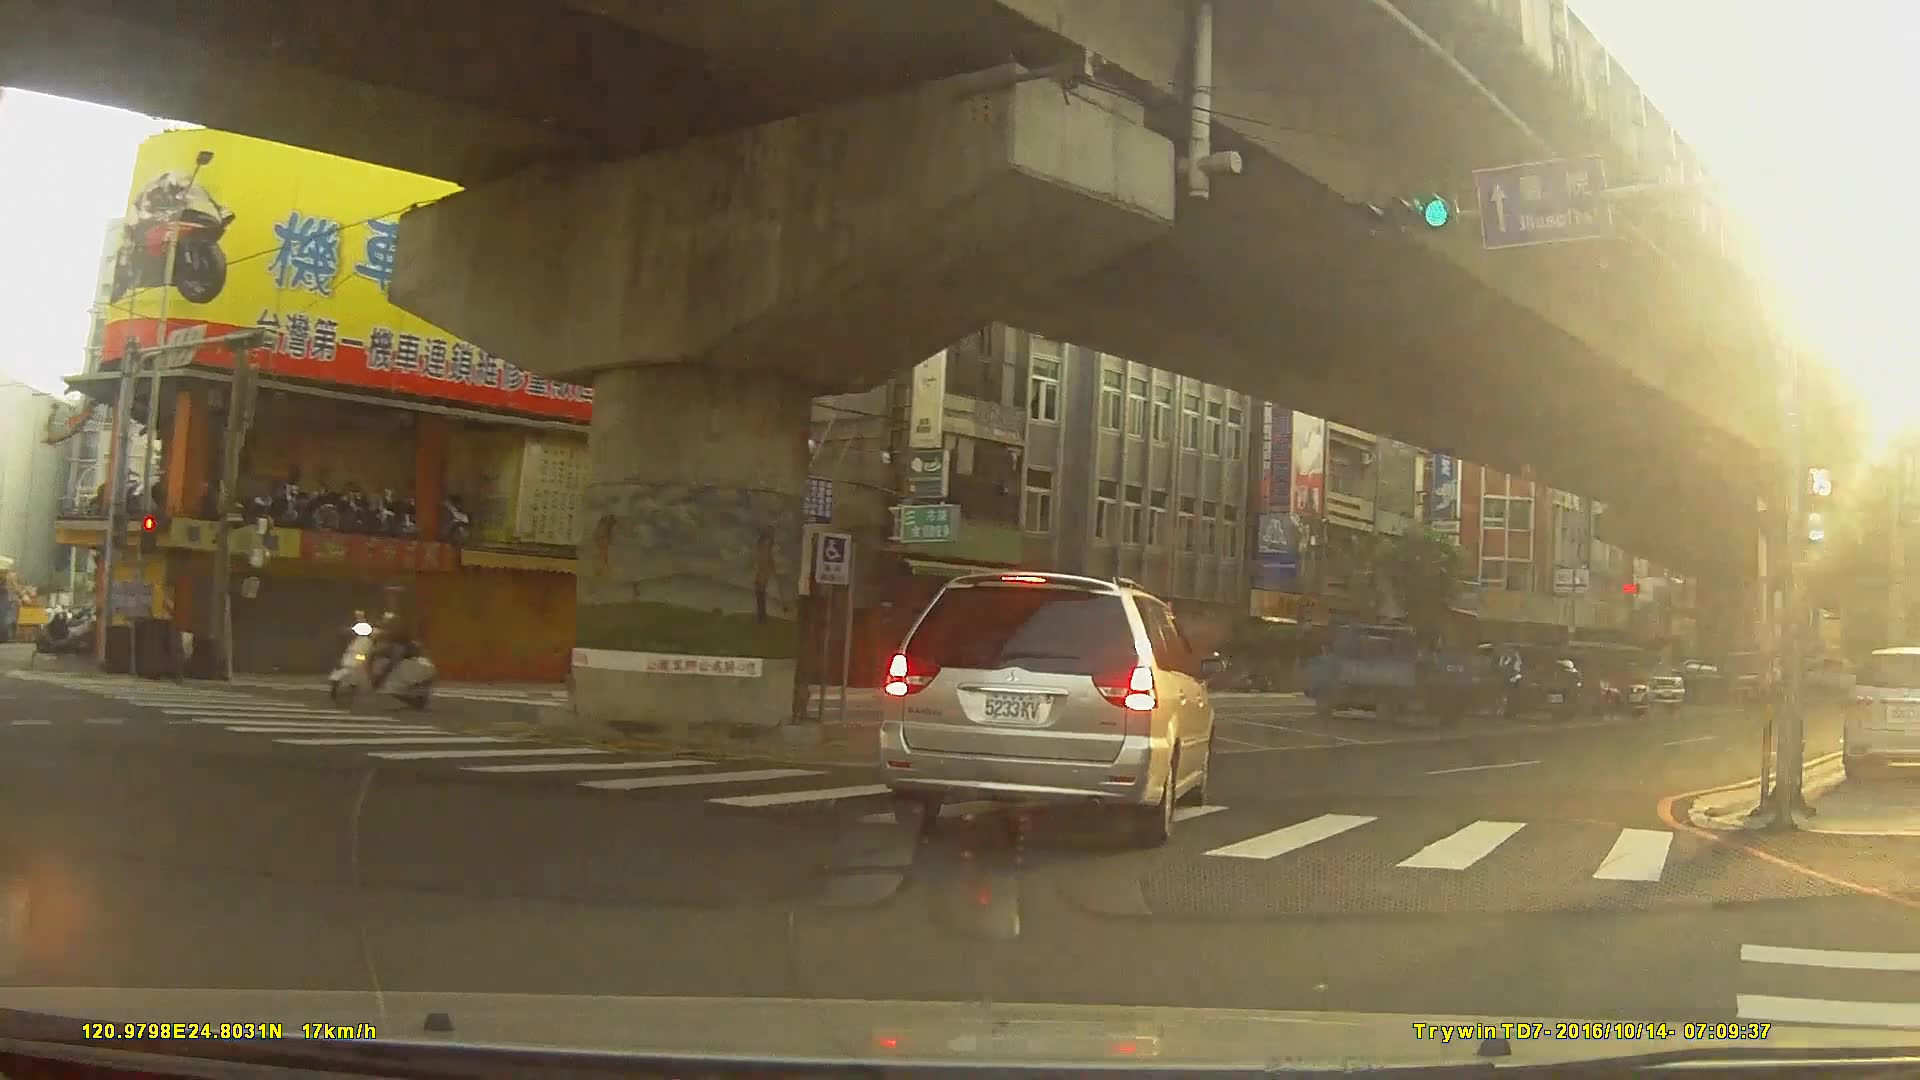rider: (334, 581, 444, 707)
vehicle: (874, 564, 1215, 845), (1296, 621, 1494, 729), (1448, 636, 1583, 718), (1841, 640, 1920, 778), (1533, 649, 1654, 716), (1655, 656, 1735, 699)
